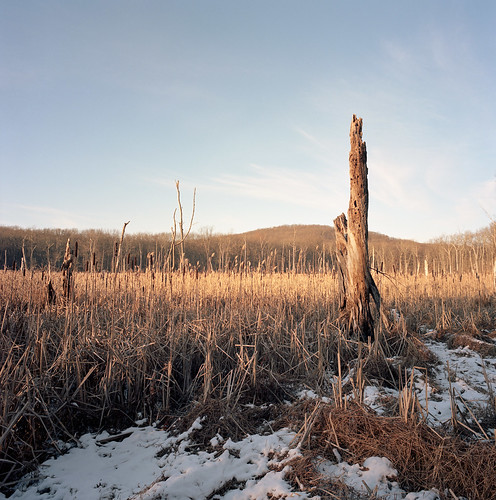grass: (1, 271, 496, 436)
sky: (1, 1, 496, 215)
